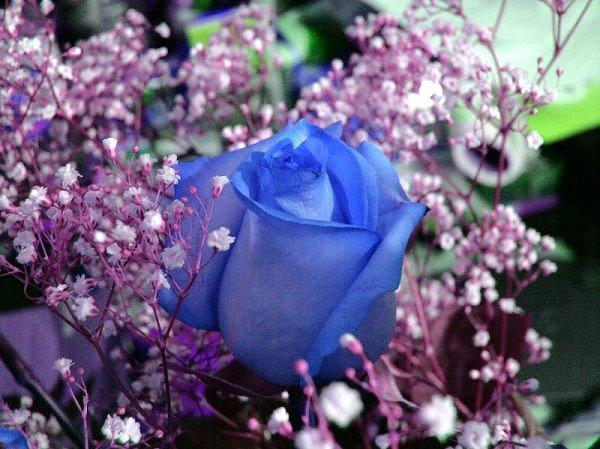Rose: (146, 89, 433, 394)
